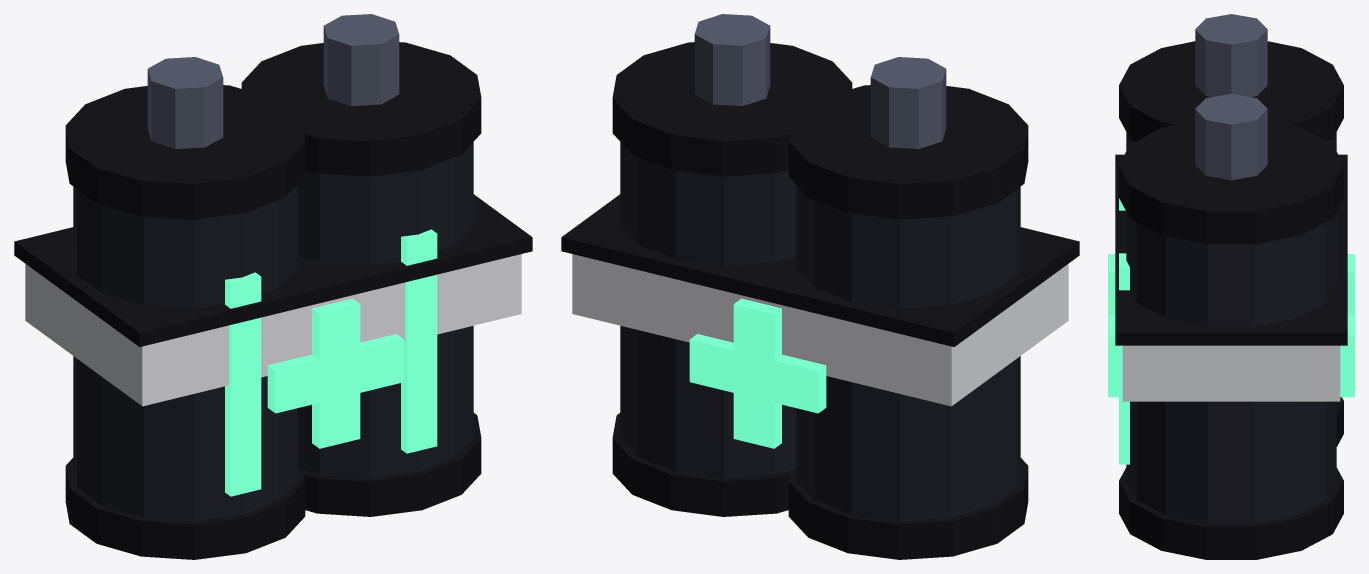
File: pickup_health.glb
The picture shows the model from 3 angles, left to right: view 1: azimuth 30°, elevation 25°; view 2: azimuth 150°, elevation 25°; view 3: azimuth 270°, elevation 25°; orthographic projection. The views are drawn at different scales.
Visible parts, largest first — view 1: pickup_health; view 2: pickup_health; view 3: pickup_health.
Part boxes in pixels (x1,y1,x2,y2): pickup_health: (14,14,532,559); pickup_health: (561,14,1079,559); pickup_health: (1108,14,1354,559).
Size of the model in its own units: 0.58 by 0.615 by 0.34.
